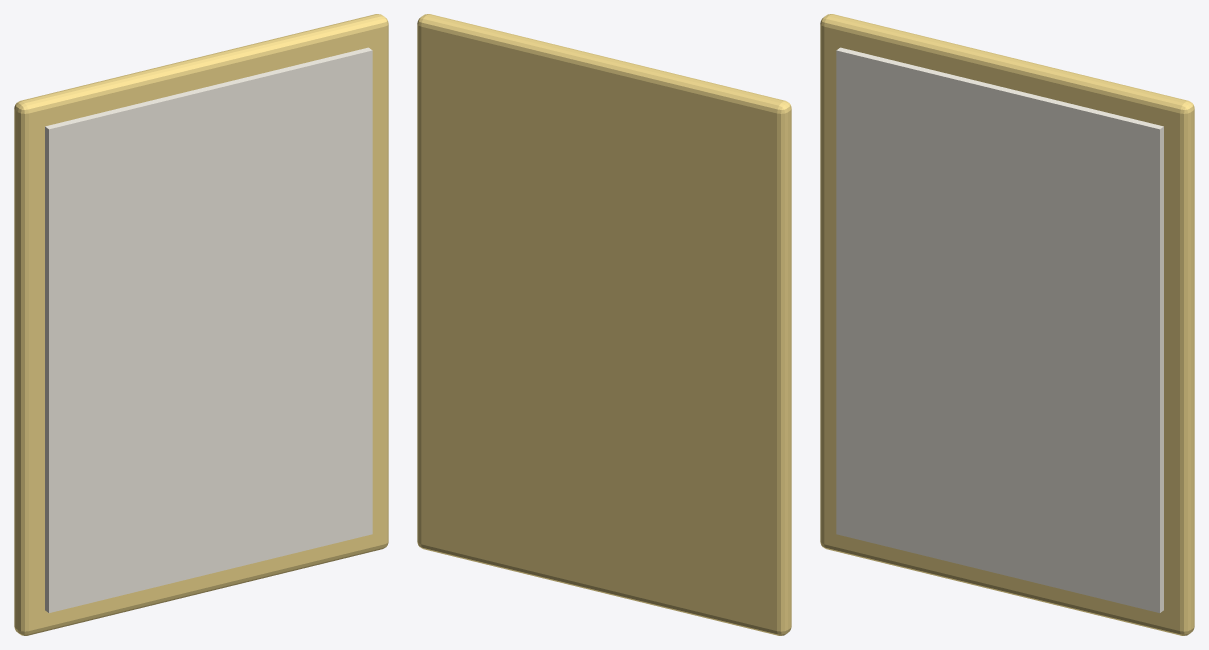
File: fx_poster.glb
3 renders of one model, left to right at view 1: azimuth 30°, elevation 25°; view 2: azimuth 150°, elevation 25°; view 3: azimuth 330°, elevation 25°, orthographic.
Visible parts, largest first — view 1: fx_poster; view 2: fx_poster; view 3: fx_poster.
Boxes of the visible parts, <box> form: fx_poster: <box>14,14,388,635</box>; fx_poster: <box>417,14,791,635</box>; fx_poster: <box>820,14,1194,635</box>.
Size of the model in its own units: 1.6 by 2.2 by 0.11.
